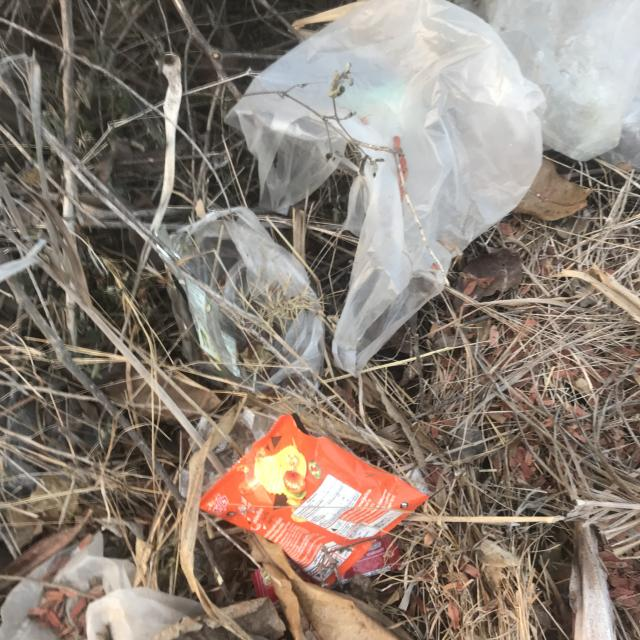Single-layer Plastic: (228, 0, 544, 375), (160, 206, 325, 389), (462, 0, 640, 169), (0, 531, 204, 640)
